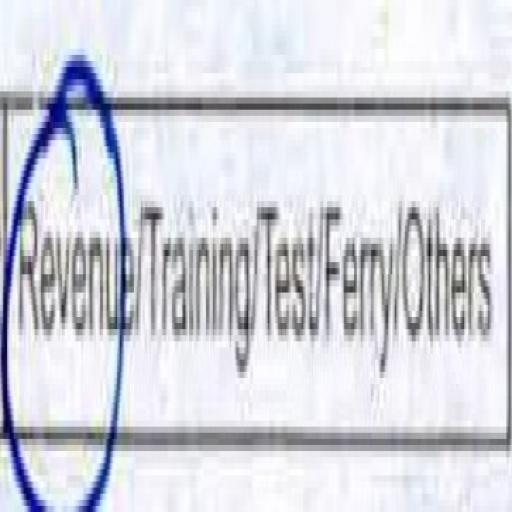check: (2, 34, 144, 512)
